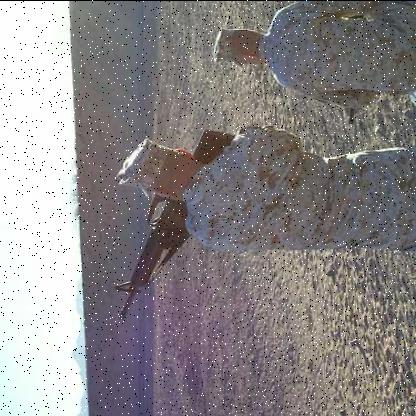rifle: (96, 122, 265, 327)
